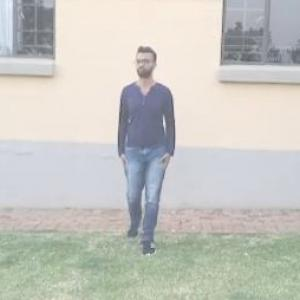follow: (106, 31, 184, 276)
